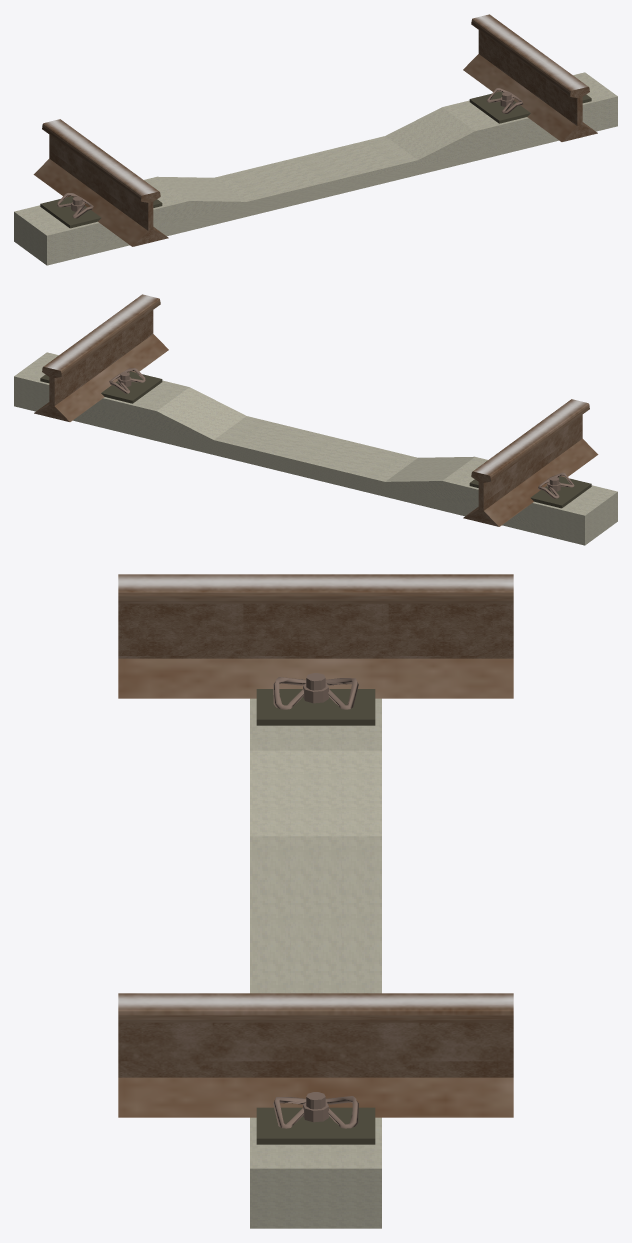
The model's file is main_tp2.obj.
The picture shows the model from 3 angles, top to bottom: view 1: azimuth 30°, elevation 25°; view 2: azimuth 150°, elevation 25°; view 3: azimuth 270°, elevation 25°; orthographic projection. The views are drawn at different scales.
Visible parts, largest first — view 1: zhenmu_type2, rail, daoding_1.1; view 2: zhenmu_type2, rail, daoding_1.1; view 3: rail, zhenmu_type2, daoding_1.1.
Part boxes in pixels (box(x1,y1,x2,y2)): zhenmu_type2: box(14, 72, 617, 265); rail: box(33, 14, 597, 246); daoding_1.1: box(40, 88, 591, 228); zhenmu_type2: box(14, 352, 617, 545); rail: box(34, 294, 598, 526); daoding_1.1: box(40, 368, 591, 508); rail: box(118, 574, 513, 1117); zhenmu_type2: box(250, 698, 381, 1228); daoding_1.1: box(256, 673, 375, 1144).
Bounding box in the file's own units: 2 × 0.2643 × 0.6.
5 materials, 5 textured.
